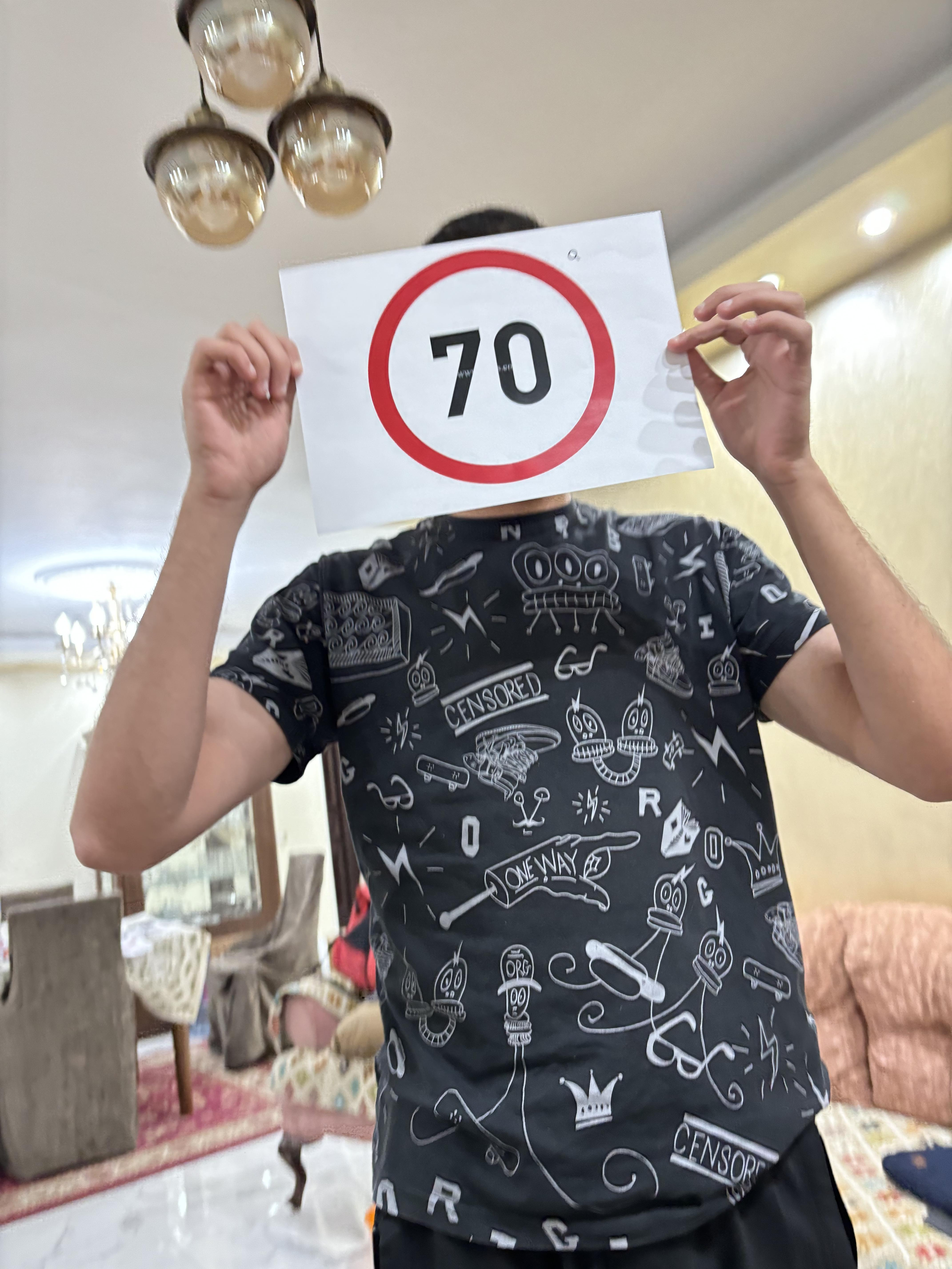70-Speed: (363, 251, 623, 486)
